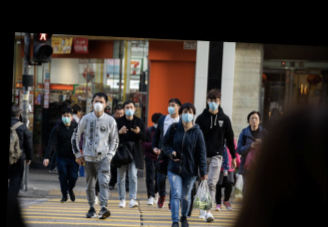with_mask: (92, 98, 105, 112), (180, 108, 193, 122), (206, 97, 219, 110), (166, 102, 178, 115), (124, 104, 135, 117), (60, 113, 71, 125)
without_mask: (249, 115, 260, 126), (113, 110, 125, 119)
